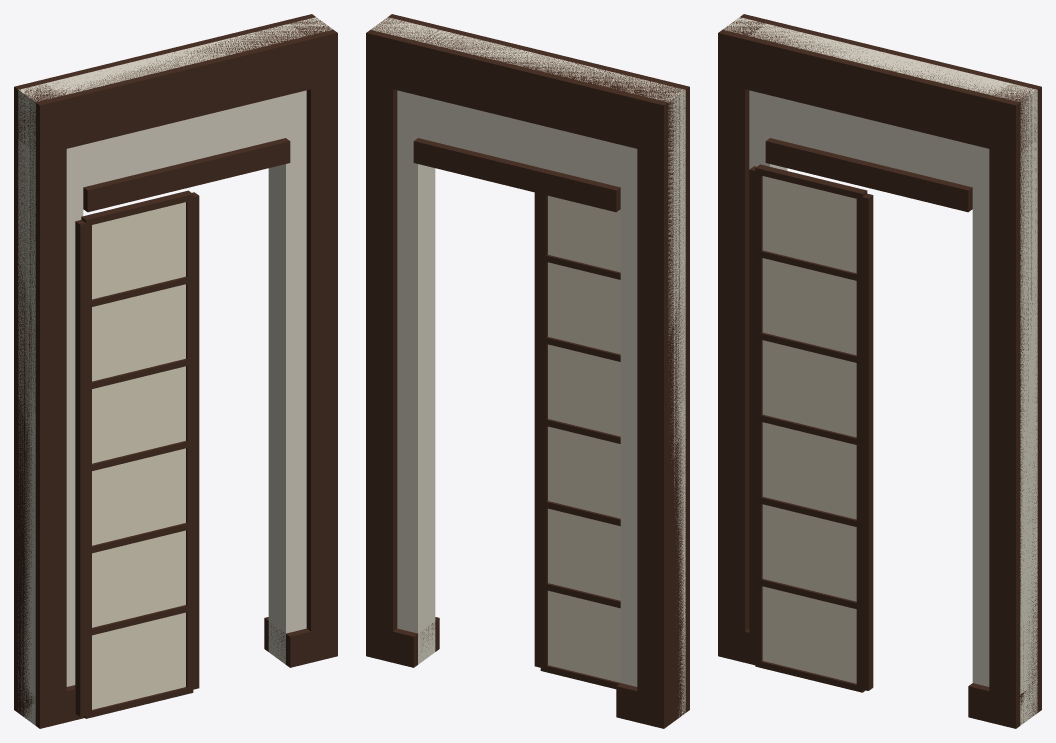
Rendered from jap-parede-porta.gltf.
The picture shows the model from 3 angles, left to right: view 1: azimuth 30°, elevation 25°; view 2: azimuth 150°, elevation 25°; view 3: azimuth 330°, elevation 25°; orthographic projection.
Parts seen in each view (by area): view 1: jap-parede-porta; view 2: jap-parede-porta; view 3: jap-parede-porta.
Boxes of the visible parts, x1,y1,x2,y2 form: jap-parede-porta: (14,14,337,728); jap-parede-porta: (366,14,689,728); jap-parede-porta: (718,14,1041,728).
Size of the model in its own units: 1 by 2 by 0.176.
